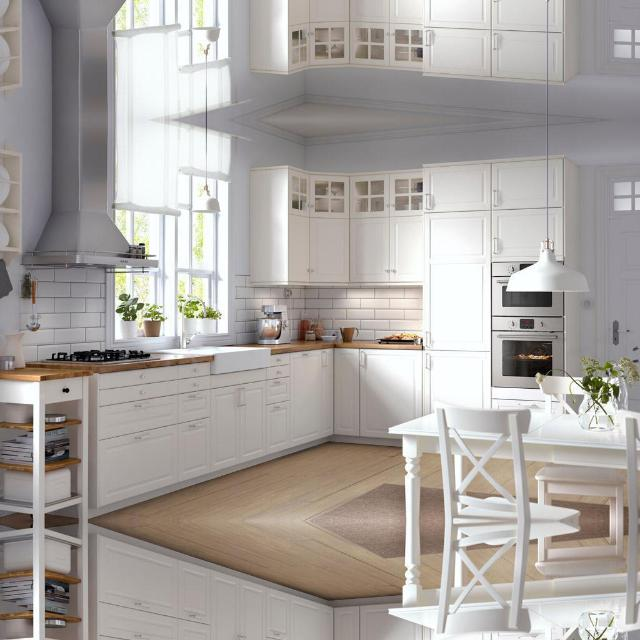obstacle: (382, 375, 640, 521), (382, 521, 639, 640), (0, 358, 162, 520), (0, 522, 161, 640)
